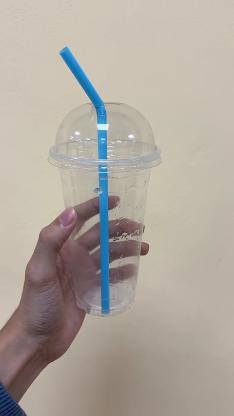Plastic Cup: (48, 102, 162, 314)
